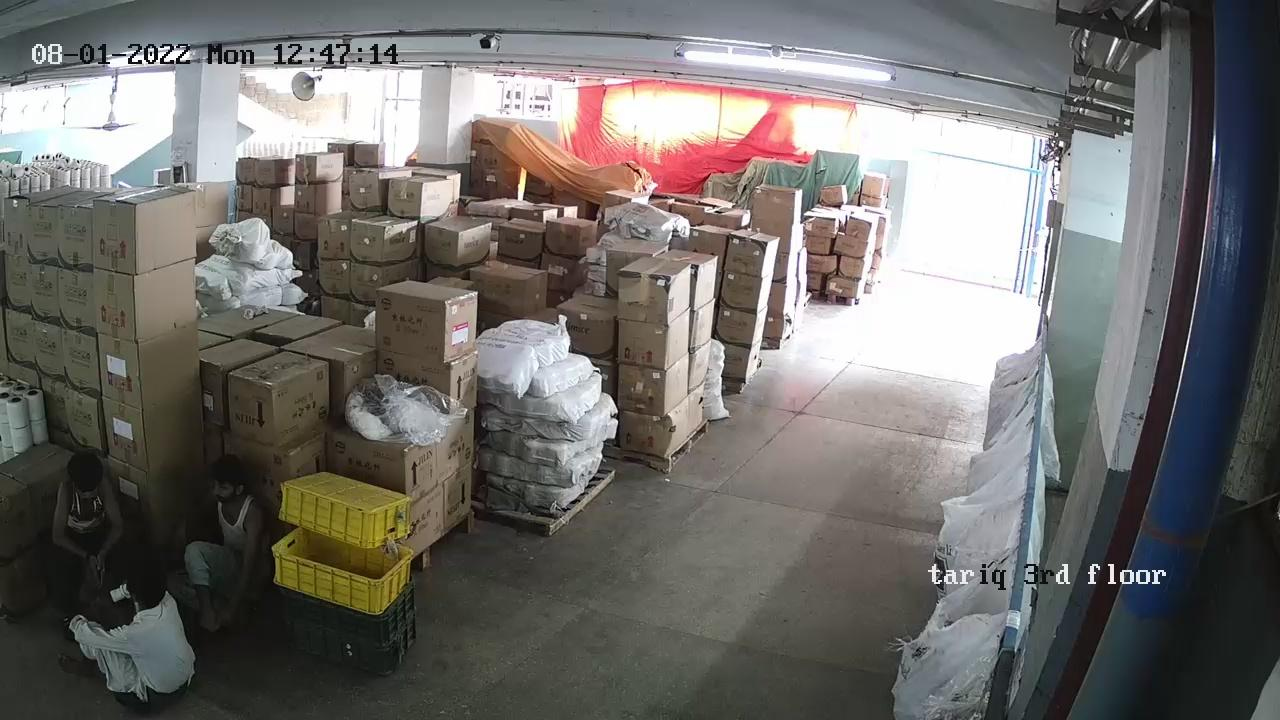person: (87, 577, 200, 692), (182, 478, 272, 612), (56, 455, 129, 572)
